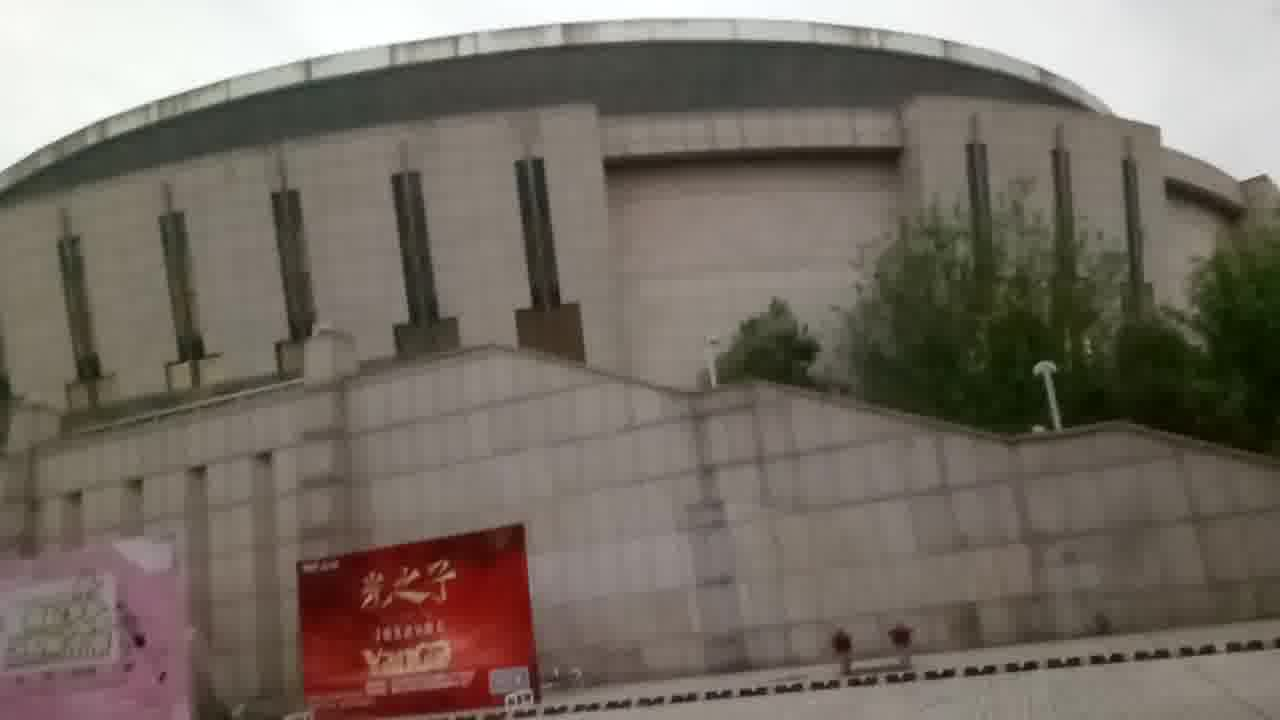zhongtiww: (3, 16, 1280, 640)
